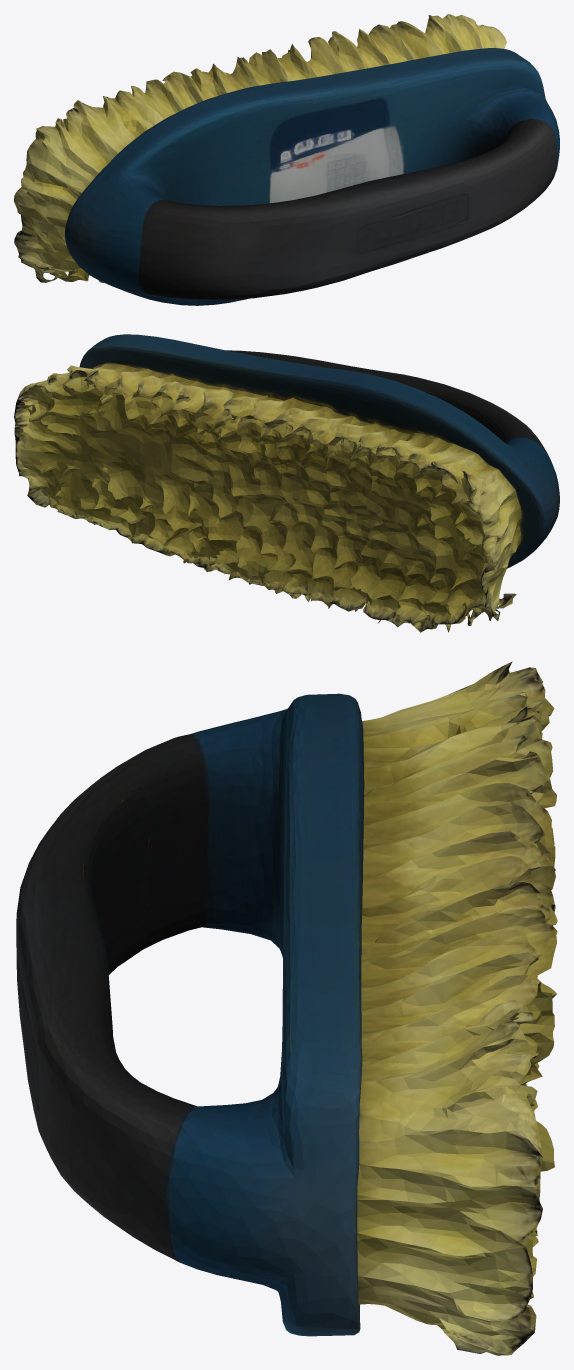
File: tool_wipe.glb
3 renders of one model, top to bottom at view 1: azimuth 30°, elevation 25°; view 2: azimuth 150°, elevation 25°; view 3: azimuth 270°, elevation 25°, orthographic. The views are drawn at different scales.
Parts seen in each view (by area): view 1: V_handle_eraser_0; view 2: V_handle_eraser_0; view 3: V_handle_eraser_0.
Boxes of the visible parts, <box> form: V_handle_eraser_0: <box>14,14,559,305</box>; V_handle_eraser_0: <box>14,334,559,632</box>; V_handle_eraser_0: <box>16,661,557,1355</box>.
Bounding box in the file's own units: 0.1694 × 0.0666 × 0.0824.
1 material, 1 textured.
